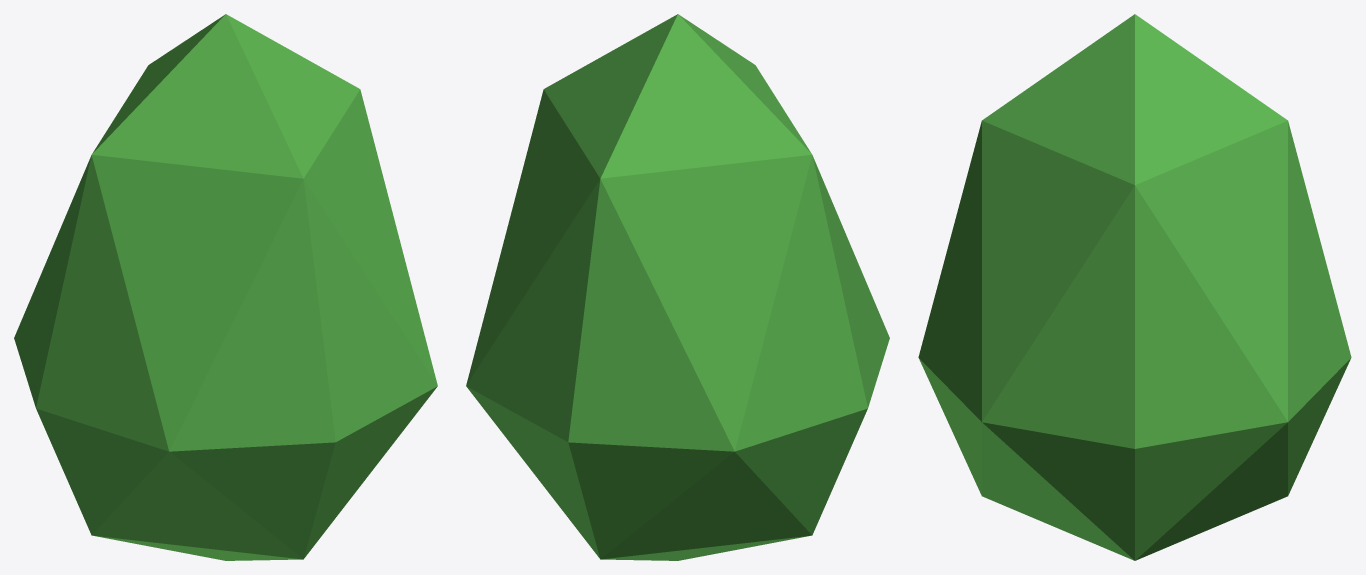
File: Plants-Bush-Pointy-Med.FBX
3 views of the same model, side by side, from view 1: azimuth 30°, elevation 25°; view 2: azimuth 150°, elevation 25°; view 3: azimuth 270°, elevation 25° (orthographic).
Parts seen in each view (by area): view 1: Plants-Bush-Pointy-Med; view 2: Plants-Bush-Pointy-Med; view 3: Plants-Bush-Pointy-Med.
Part boxes in pixels (x1,y1,x2,y2): Plants-Bush-Pointy-Med: (14, 14, 437, 560); Plants-Bush-Pointy-Med: (466, 14, 889, 560); Plants-Bush-Pointy-Med: (918, 14, 1351, 560).
Size of the model in its own units: 20 by 20 by 27.5.
